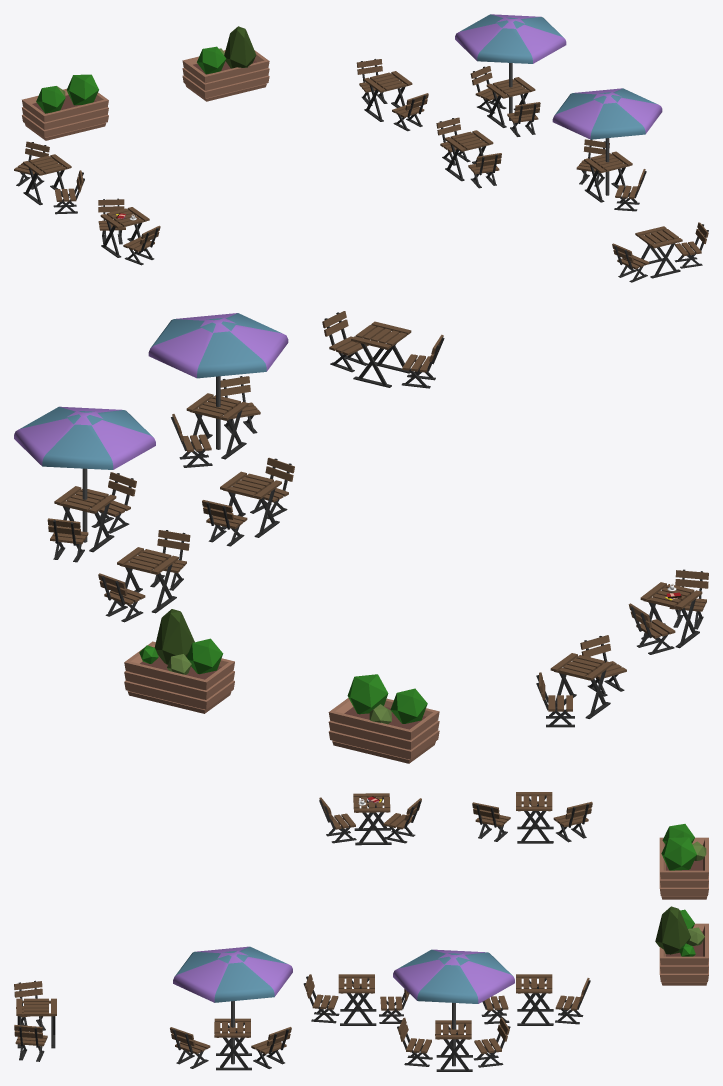
The picture shows the model from 3 angles, top to bottom: view 1: azimuth 30°, elevation 25°; view 2: azimuth 150°, elevation 25°; view 3: azimuth 270°, elevation 25°; orthographic projection. The views are drawn at different scales.
Parts seen in each view (by area): view 1: Deko_2x3 arcade O; view 2: Deko_2x3 arcade O; view 3: Deko_2x3 arcade O.
Part boxes in pixels (x1,y1,x2,y2): Deko_2x3 arcade O: [14, 14, 708, 282]; Deko_2x3 arcade O: [14, 311, 708, 763]; Deko_2x3 arcade O: [14, 792, 708, 1071].
Size of the model in its own units: 15.05 by 2.94 by 16.96.
2 materials, 2 textured.
